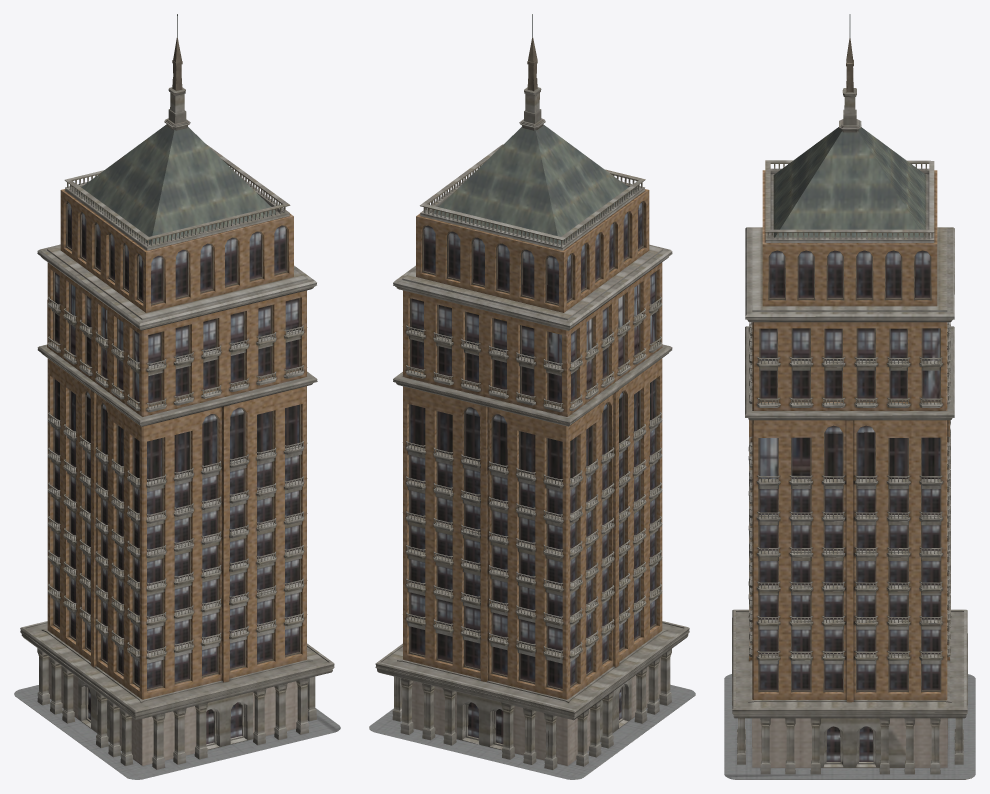
Rendered from bld22_13.glb.
3 renders of one model, left to right at view 1: azimuth 30°, elevation 25°; view 2: azimuth 150°, elevation 25°; view 3: azimuth 270°, elevation 25°, orthographic. The views are drawn at different scales.
Visible parts, largest first — view 1: bld22_13; view 2: bld22_13; view 3: bld22_13.
Part boxes in pixels (box(x1,y1,x2,y2)): bld22_13: box(14, 14, 340, 779); bld22_13: box(369, 14, 695, 779); bld22_13: box(724, 14, 975, 779).
Bounding box in the file's own units: 47.38 × 148 × 47.34.
1 material, 1 textured.
